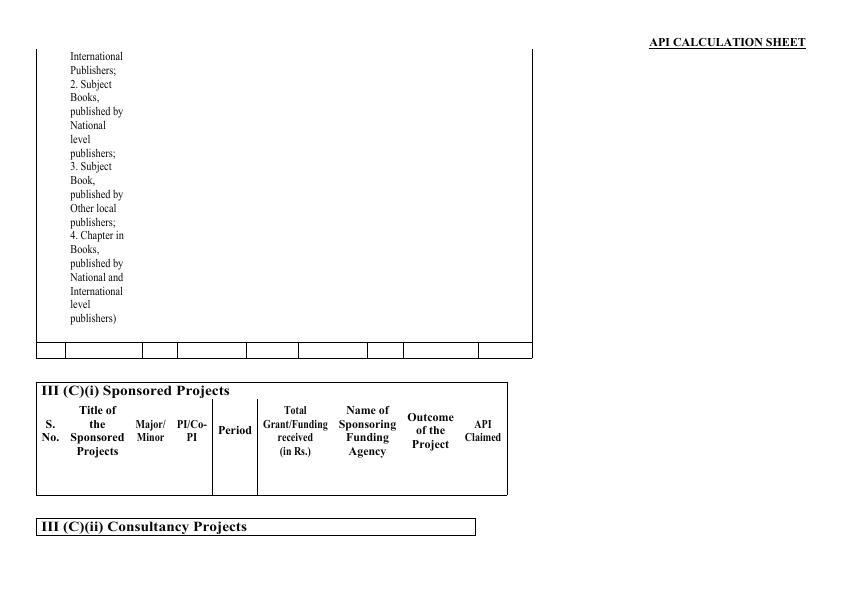table: (24, 39, 539, 361), (29, 376, 513, 501), (31, 512, 486, 546)
text: (640, 24, 813, 60)
